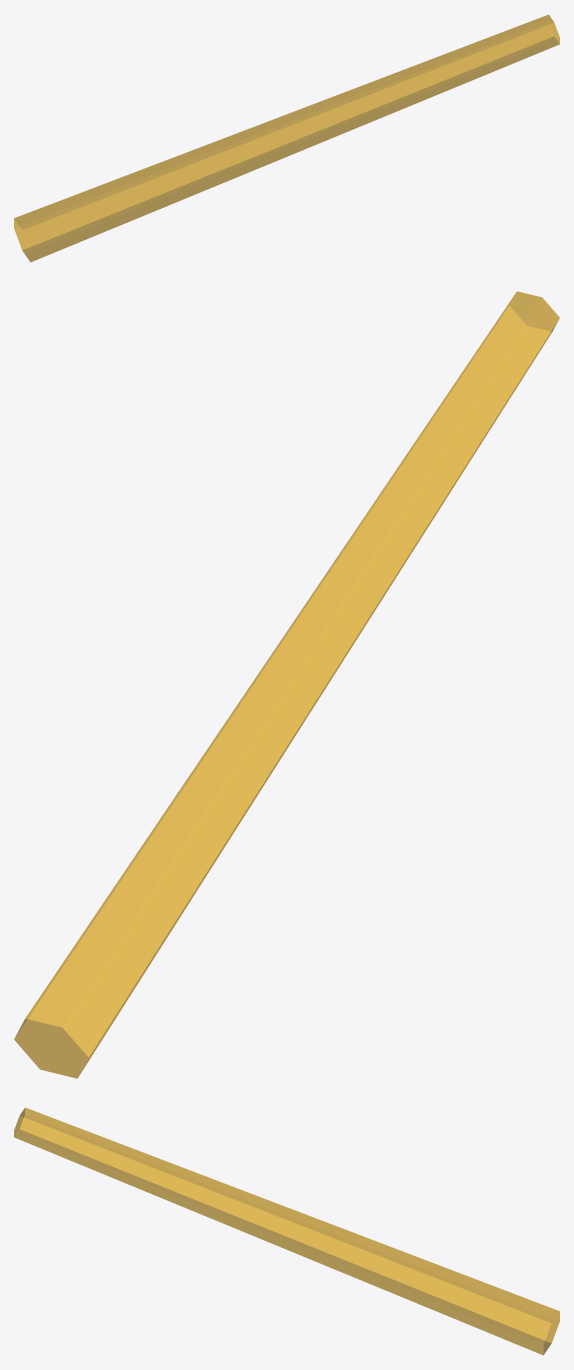
File: SM_Veh_Ship_S_Bowsprit_02_Collision.fbx
3 renders of one model, top to bottom at view 1: azimuth 90°, elevation 25°; view 2: azimuth 150°, elevation 25°; view 3: azimuth 270°, elevation 25°, orthographic. The views are drawn at different scales.
Parts seen in each view (by area): view 1: SM_Veh_Ship_S_Bowsprit_02_Collision; view 2: SM_Veh_Ship_S_Bowsprit_02_Collision; view 3: SM_Veh_Ship_S_Bowsprit_02_Collision.
Boxes of the visible parts, <box> form: SM_Veh_Ship_S_Bowsprit_02_Collision: <box>14,14,559,262</box>; SM_Veh_Ship_S_Bowsprit_02_Collision: <box>14,291,559,1078</box>; SM_Veh_Ship_S_Bowsprit_02_Collision: <box>14,1107,559,1355</box>.
Size of the model in its own units: 79.69 by 443 by 915.
